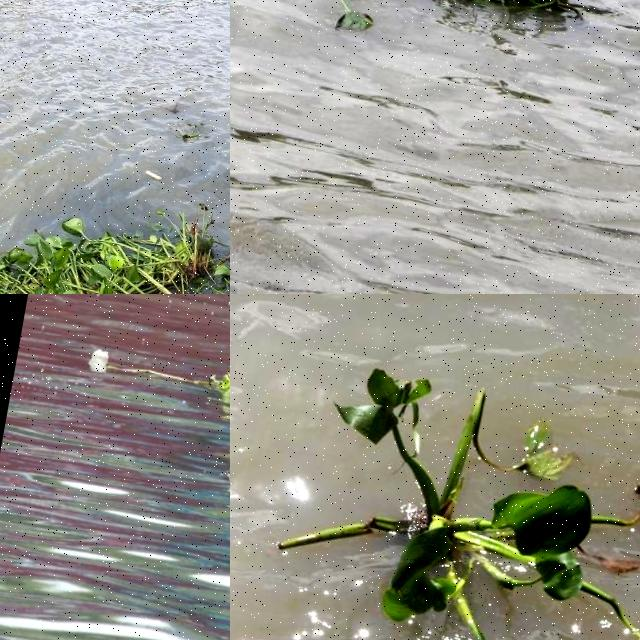water-hyacinth: (247, 338, 640, 640), (231, 1, 626, 108), (1, 161, 231, 295), (199, 339, 231, 420)
